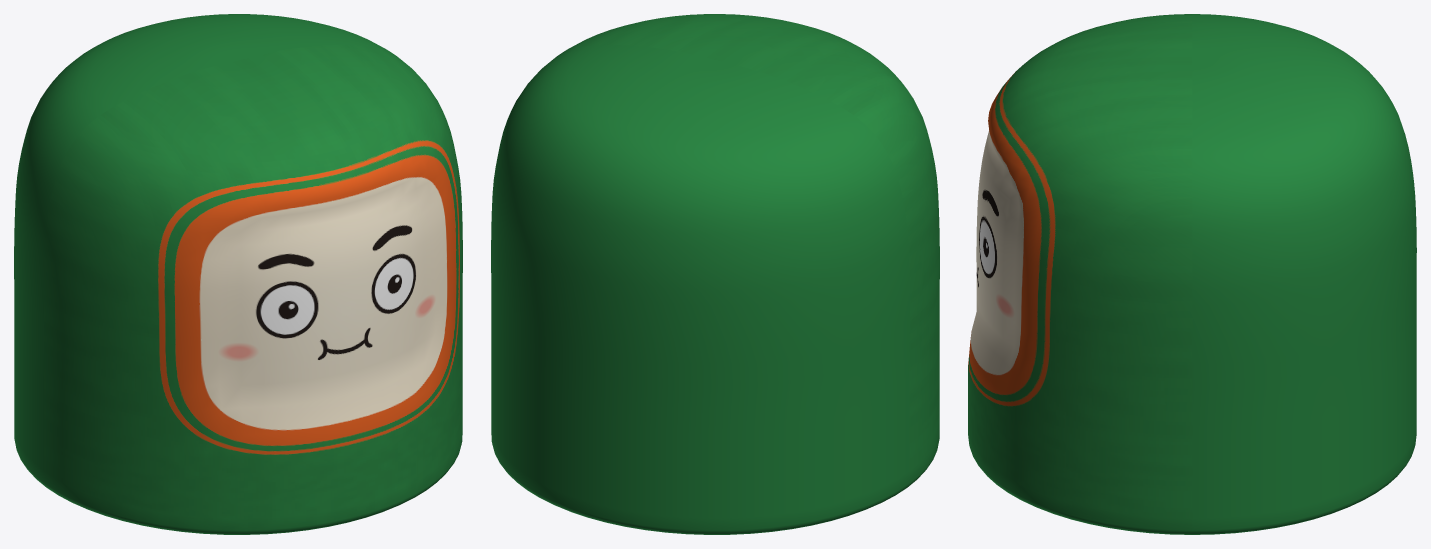
File: kidaru.fbx
The picture shows the model from 3 angles, left to right: view 1: azimuth 30°, elevation 25°; view 2: azimuth 150°, elevation 25°; view 3: azimuth 270°, elevation 25°; orthographic projection.
Visible parts, largest first — view 1: kidaru; view 2: kidaru; view 3: kidaru.
Boxes of the visible parts, x1,y1,x2,y2 form: kidaru: (14, 14, 462, 534); kidaru: (491, 14, 939, 534); kidaru: (968, 14, 1416, 534).
Bounding box in the file's own units: 1 × 0.9425 × 1.
Materials: 1 (1 with a texture image).
